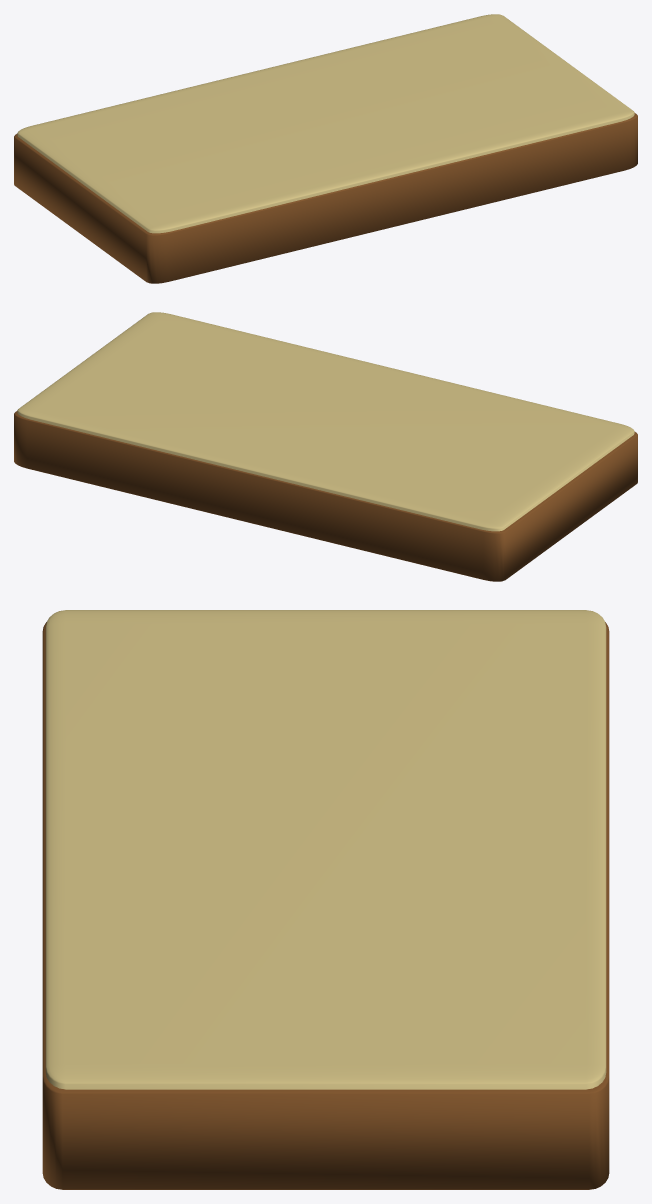
File: PaddedPantsWaist.fbx
3 renders of one model, top to bottom at view 1: azimuth 30°, elevation 25°; view 2: azimuth 150°, elevation 25°; view 3: azimuth 270°, elevation 25°, orthographic. The views are drawn at different scales.
Visible parts, largest first — view 1: Waist, Waist.001; view 2: Waist, Waist.001; view 3: Waist, Waist.001.
Part boxes in pixels (box(x1,y1,x2,y2)): Waist: box(17, 14, 634, 233); Waist.001: box(14, 113, 637, 283); Waist: box(17, 312, 634, 531); Waist.001: box(14, 411, 637, 581); Waist: box(45, 610, 606, 1089); Waist.001: box(42, 622, 609, 1189).
Bounding box in the file's own units: 203 × 21.76 × 102.
